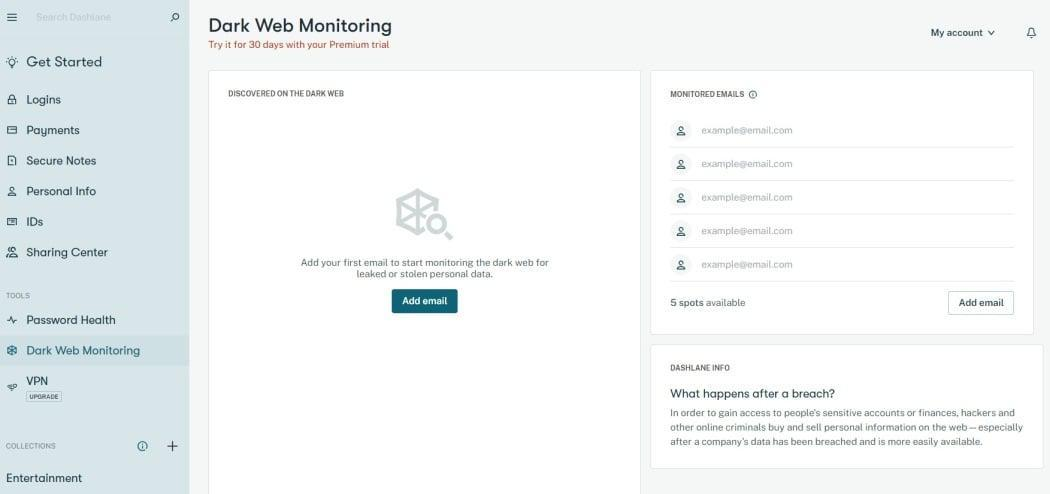button: (393, 289, 459, 315), (948, 291, 1016, 316), (27, 391, 64, 404)
icon: (6, 56, 20, 71), (6, 246, 21, 260), (675, 124, 688, 140), (675, 190, 688, 205), (676, 156, 687, 173), (676, 222, 687, 239), (170, 11, 182, 26), (1026, 27, 1038, 39), (7, 345, 19, 357), (678, 260, 687, 276), (7, 13, 20, 24), (8, 382, 19, 395), (168, 441, 179, 454), (7, 94, 18, 106), (8, 186, 19, 198), (138, 441, 149, 453), (7, 126, 19, 136), (7, 316, 19, 326), (8, 156, 18, 167), (7, 218, 19, 227)
input: (668, 118, 1017, 151), (668, 153, 1018, 183), (668, 187, 1018, 217), (668, 220, 1018, 250), (669, 255, 1023, 281)
label: (28, 346, 141, 360), (228, 87, 349, 100), (7, 472, 85, 486), (27, 315, 117, 327), (28, 247, 110, 260), (26, 56, 106, 69), (25, 185, 98, 199), (930, 27, 997, 41), (26, 156, 99, 168), (670, 90, 747, 100), (670, 363, 732, 374), (27, 126, 82, 138), (27, 94, 64, 108), (7, 442, 57, 452), (27, 375, 51, 387), (26, 217, 46, 229)
